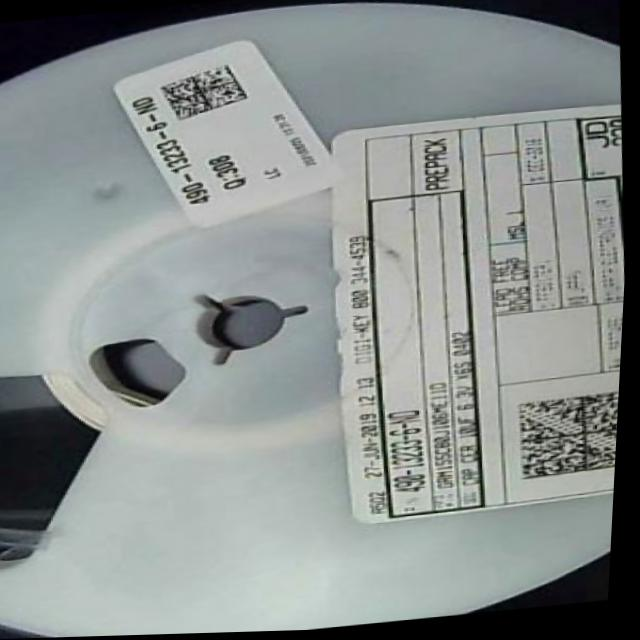datamatrix: (519, 391, 624, 484), (154, 61, 256, 126)
